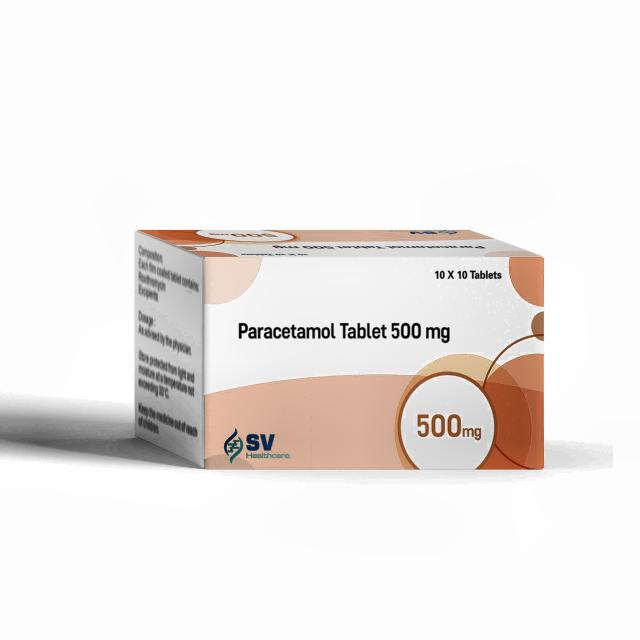Paracetamol: (236, 302, 470, 353)
